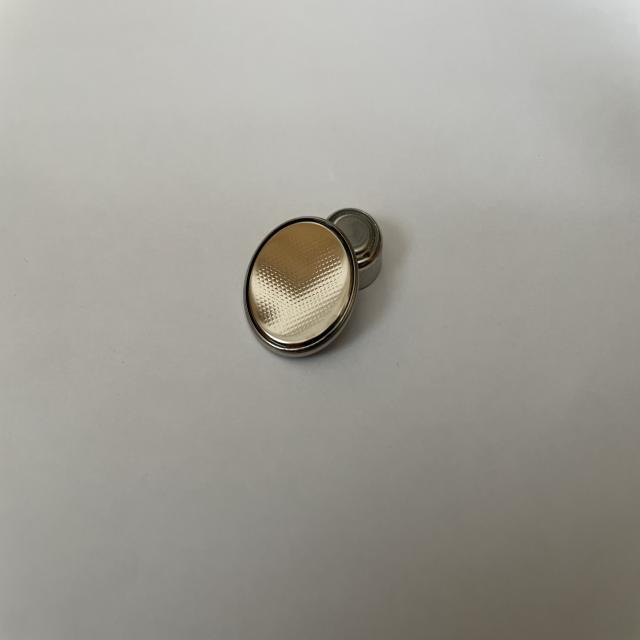COIN: (242, 214, 357, 360), (327, 207, 382, 293)
